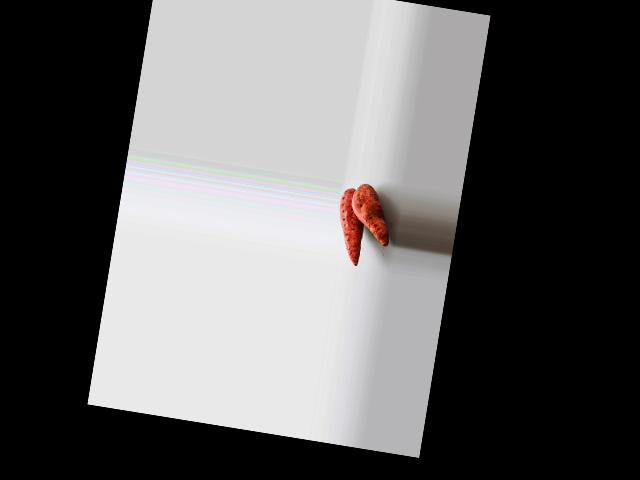sweet_potato: (332, 187, 370, 261)
